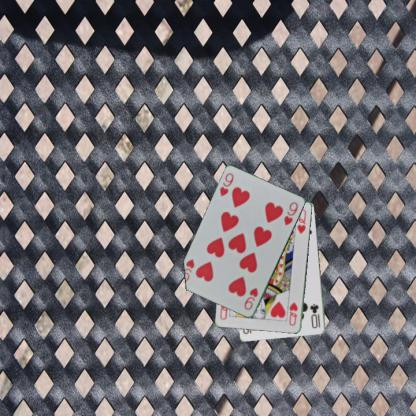10c: (307, 301, 322, 330)
9h: (217, 171, 235, 198), (242, 285, 260, 311)
Qh: (287, 299, 299, 327)
